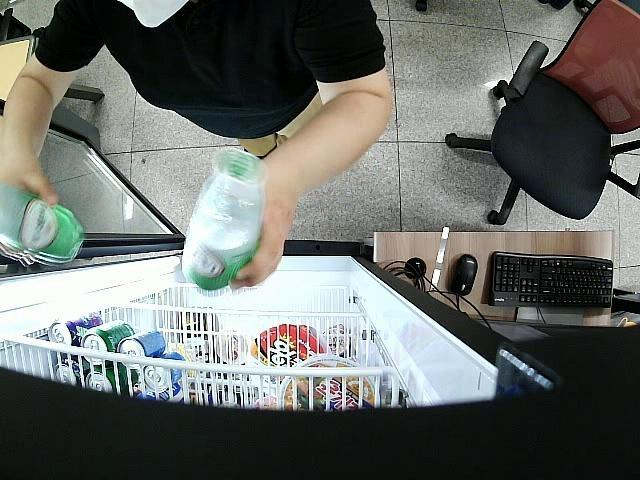18_trevi: (183, 147, 264, 292), (0, 186, 87, 264)
